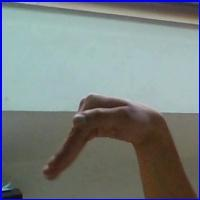A: (38, 89, 163, 186)
